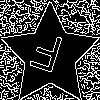F: (25, 30, 66, 83)
